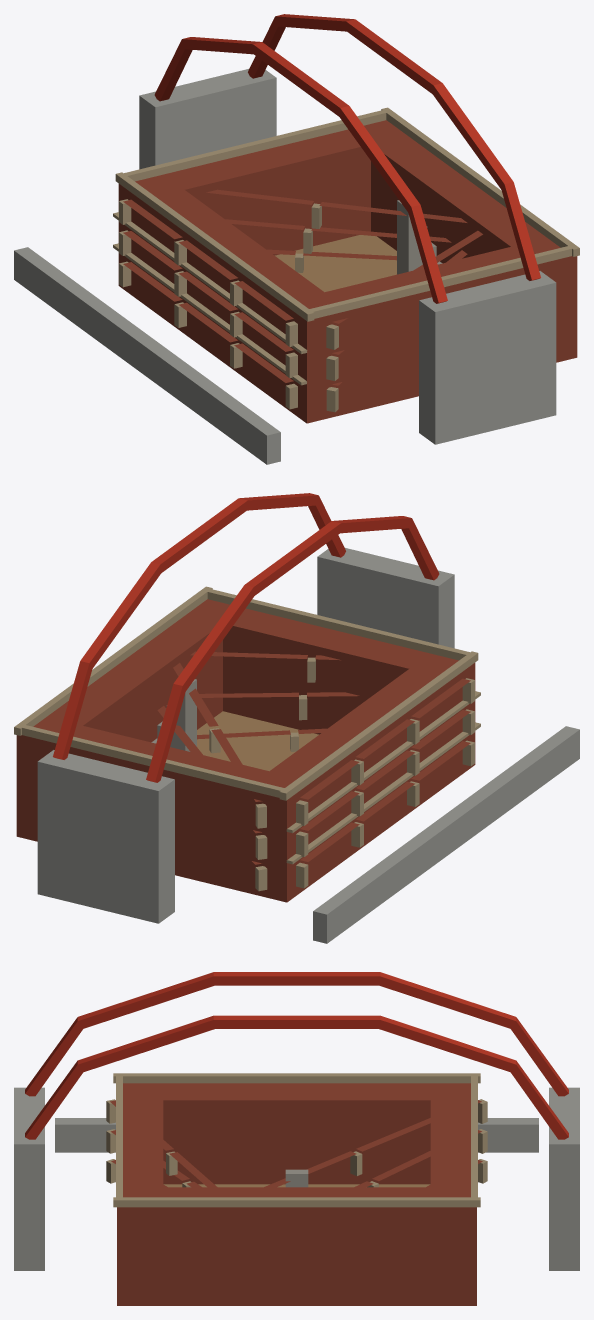
File: mobile-low.glb
The picture shows the model from 3 angles, top to bottom: view 1: azimuth 30°, elevation 25°; view 2: azimuth 150°, elevation 25°; view 3: azimuth 270°, elevation 25°; orthographic projection. The views are drawn at different scales.
Visible parts, largest first — view 1: lm.fort-point; view 2: lm.fort-point; view 3: lm.fort-point.
Part boxes in pixels (x1,y1,x2,y2): lm.fort-point: [14, 14, 579, 464]; lm.fort-point: [14, 493, 579, 943]; lm.fort-point: [14, 972, 579, 1305].
Size of the model in its own units: 73.7 by 52.9 by 110.
